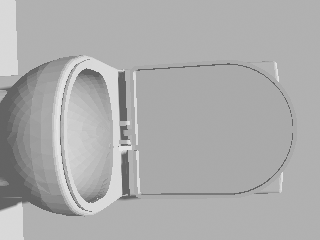lid_1: (126, 60, 297, 197)
